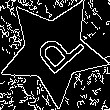P_SW: (23, 20, 84, 81)
